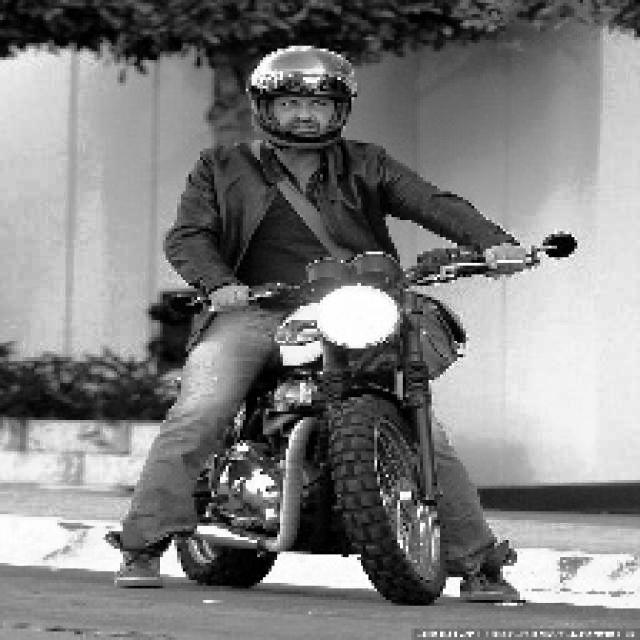Bike: (258, 275, 500, 602)
